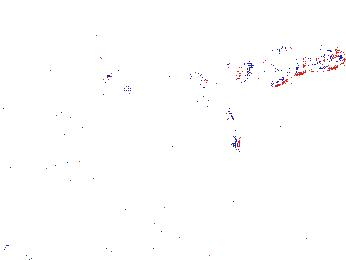glassfish: (188, 70, 243, 154)
red belly glassfish: (158, 71, 174, 83)
redtail glassfish: (230, 46, 346, 88), (95, 52, 114, 93), (28, 57, 54, 73), (123, 93, 142, 109)
